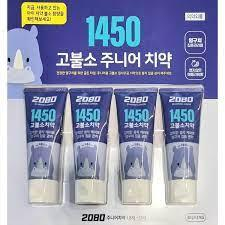toothpaste: (22, 82, 69, 211), (158, 79, 205, 205), (117, 79, 160, 208), (69, 82, 112, 205)
